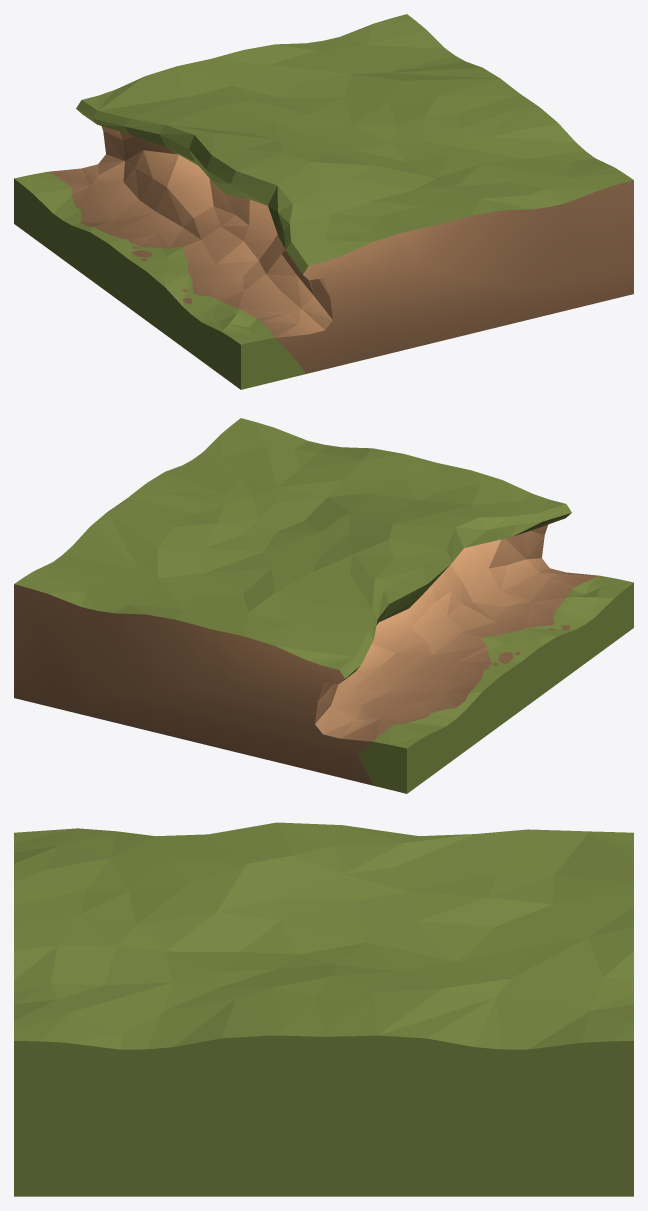
Rendered from Terrian_CliffGrass_Flat_Straight-02.fbx.
3 views of the same model, one above another, from view 1: azimuth 30°, elevation 25°; view 2: azimuth 150°, elevation 25°; view 3: azimuth 270°, elevation 25° (orthographic). The views are drawn at different scales.
Visible parts, largest first — view 1: Terrian_CliffGrass_Flat_Straight-02; view 2: Terrian_CliffGrass_Flat_Straight-02; view 3: Terrian_CliffGrass_Flat_Straight-02.
Boxes of the visible parts, x1,y1,x2,y2 form: Terrian_CliffGrass_Flat_Straight-02: [14, 14, 633, 389]; Terrian_CliffGrass_Flat_Straight-02: [14, 418, 633, 793]; Terrian_CliffGrass_Flat_Straight-02: [14, 822, 633, 1196].
Size of the model in its own units: 3600 by 1119 by 3600.
1 material, 1 textured.
